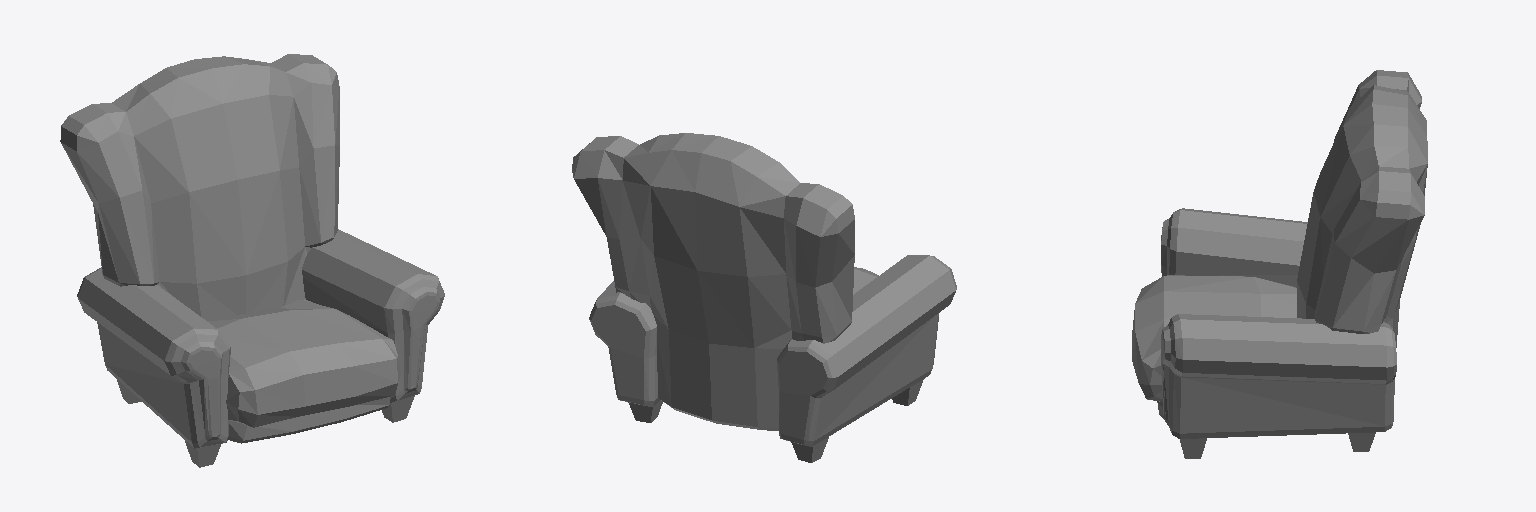
File: ArmChair.obj
3 renders of one model, left to right at view 1: azimuth 30°, elevation 25°; view 2: azimuth 150°, elevation 25°; view 3: azimuth 270°, elevation 25°, orthographic.
Visible parts, largest first — view 1: ArmChair; view 2: ArmChair; view 3: ArmChair.
Boxes of the visible parts, box(x1,y1,x2,y2) form: ArmChair: box(60, 54, 444, 467); ArmChair: box(572, 133, 956, 462); ArmChair: box(1132, 70, 1427, 458).
Bounding box in the file's own units: 148 × 155 × 135.